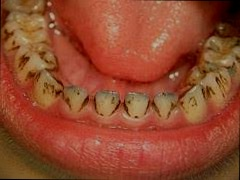Tooth Discoloration: (1, 23, 239, 121)
